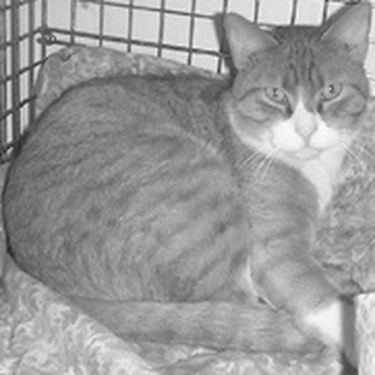cat: (5, 14, 360, 354)
